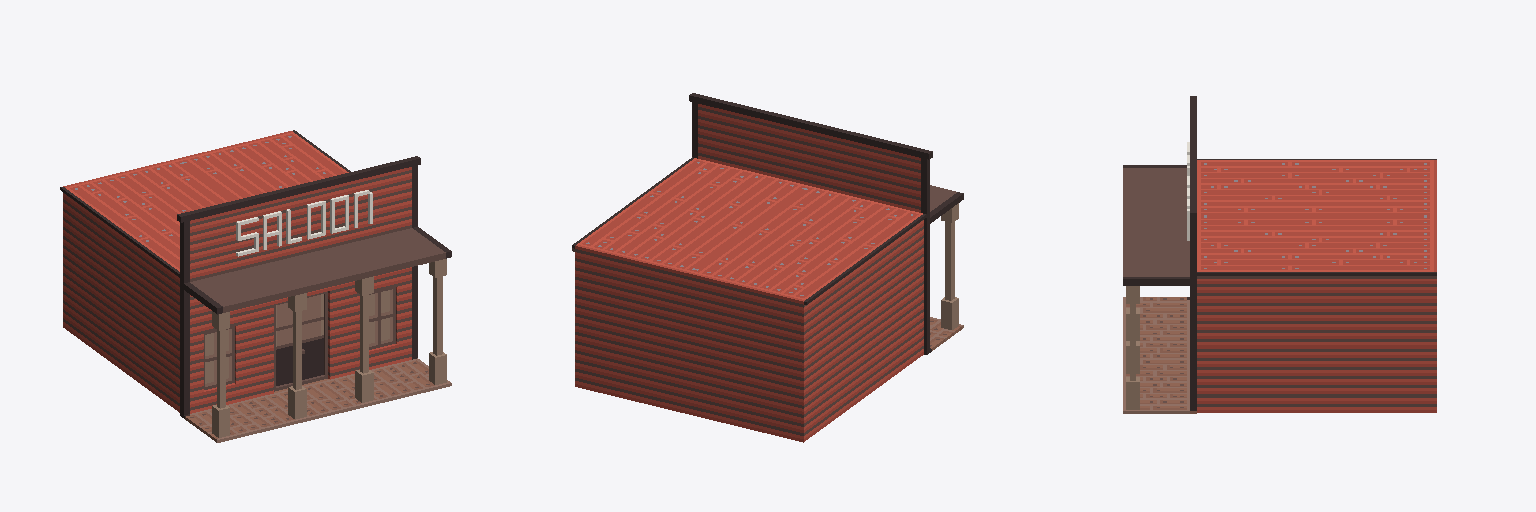
The picture shows the model from 3 angles: view 1: azimuth 30°, elevation 25°; view 2: azimuth 150°, elevation 25°; view 3: azimuth 270°, elevation 25°; orthographic projection.
Visible parts, largest first — view 1: default; view 2: default; view 3: default.
Boxes of the visible parts, box(x1,y1,x2,y2) form: default: box(60, 130, 451, 442); default: box(572, 93, 963, 442); default: box(1123, 96, 1436, 413).
Size of the model in its own units: 82 by 66 by 93.
1 materials, 1 textured.